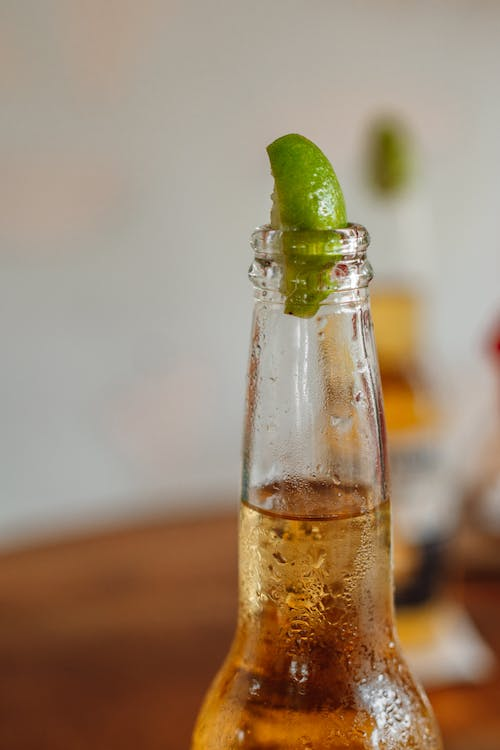alcohol: (185, 224, 445, 750)
